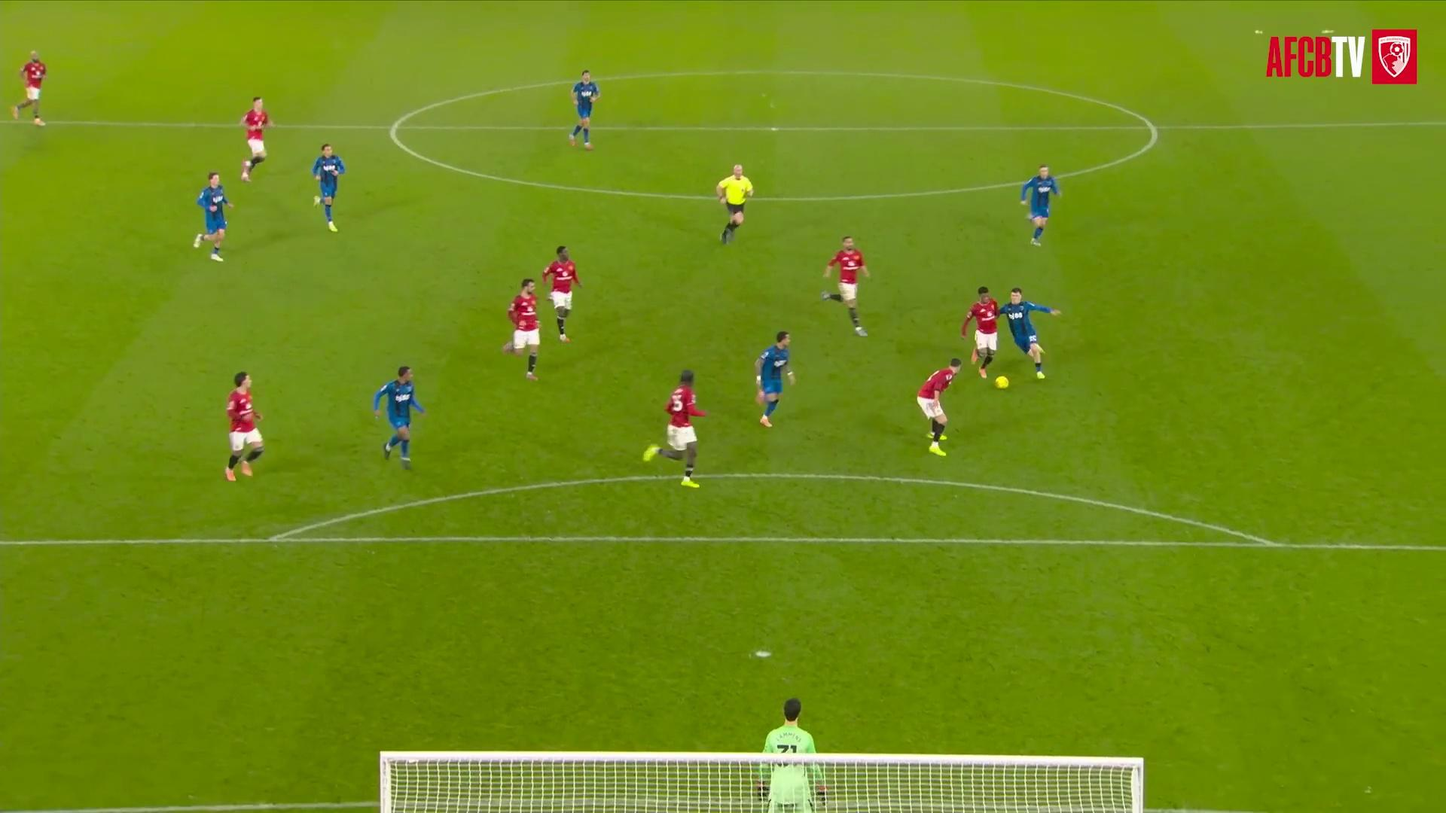football: (989, 373, 1017, 397)
player: (643, 370, 706, 487), (999, 287, 1060, 379), (374, 366, 426, 469), (821, 236, 869, 336), (917, 358, 962, 455), (225, 371, 263, 480), (542, 246, 581, 342), (755, 331, 794, 427), (502, 278, 539, 379), (758, 758, 826, 812), (193, 172, 233, 261), (961, 286, 999, 377), (1020, 165, 1061, 245), (312, 144, 346, 231), (240, 96, 272, 181), (12, 50, 46, 126), (569, 70, 599, 150)
referee: (716, 164, 752, 243)
